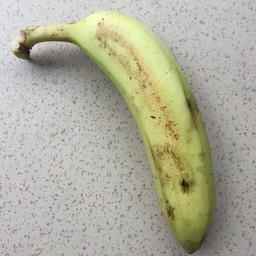Good_banana: (12, 0, 214, 256)
